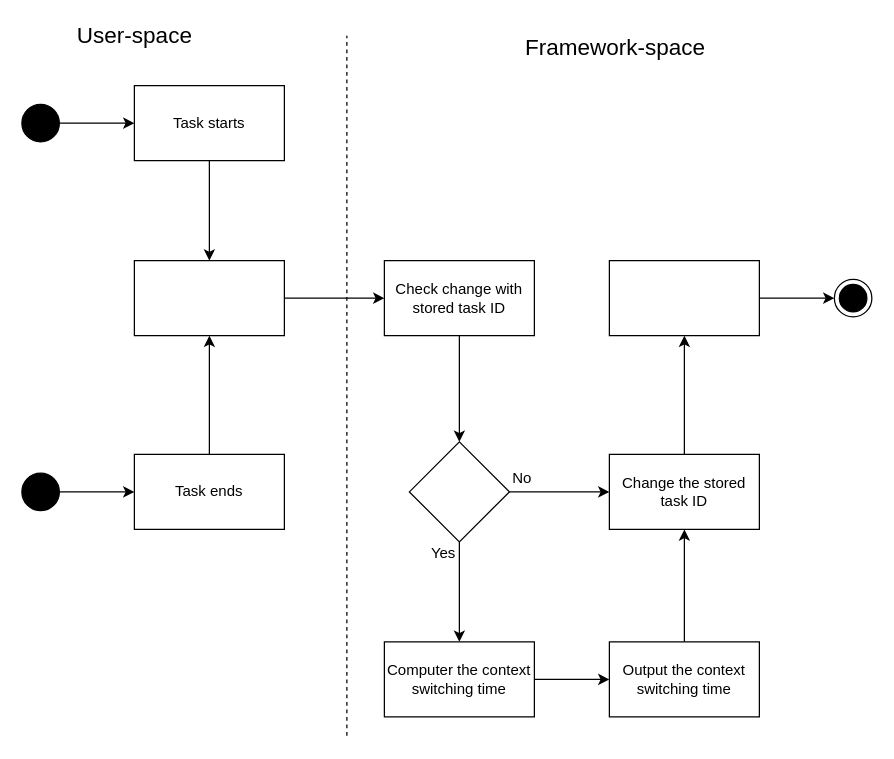
The diagram is 894 pixels wide and 759 high, and some of its shapes have lost their labels. The centre of each missing label's shape, as x and y in pixels:
Ping the framework with task ID: [208,297]
Reset the timer: [683,297]
The ID has changed ?: [458,491]
